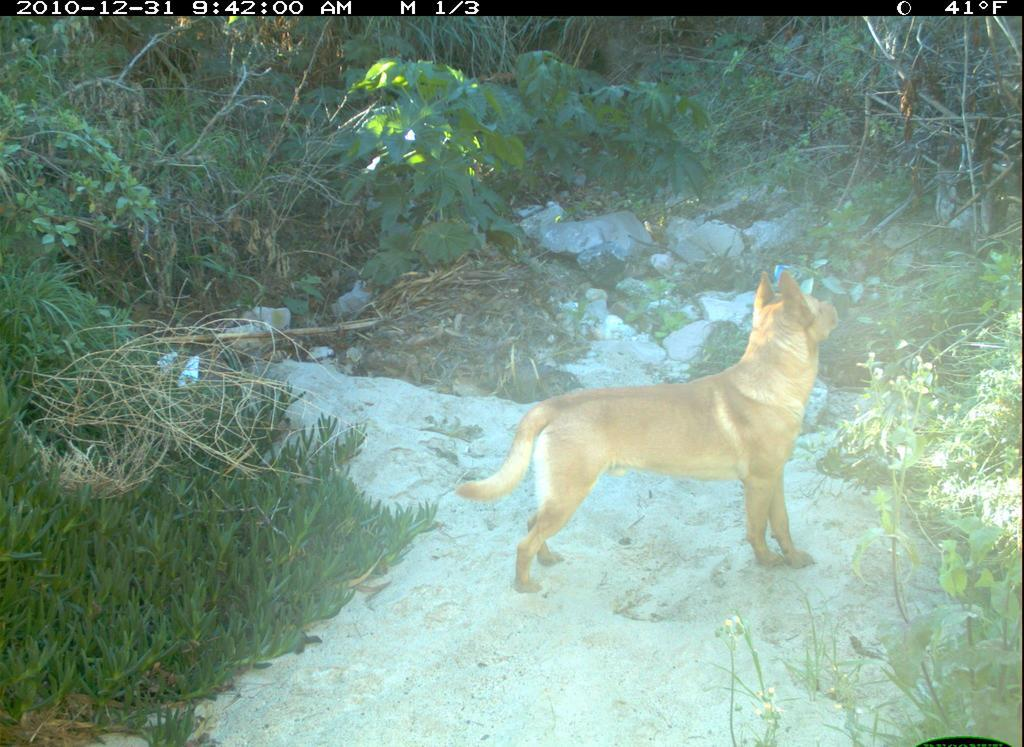dog: (447, 262, 848, 601)
